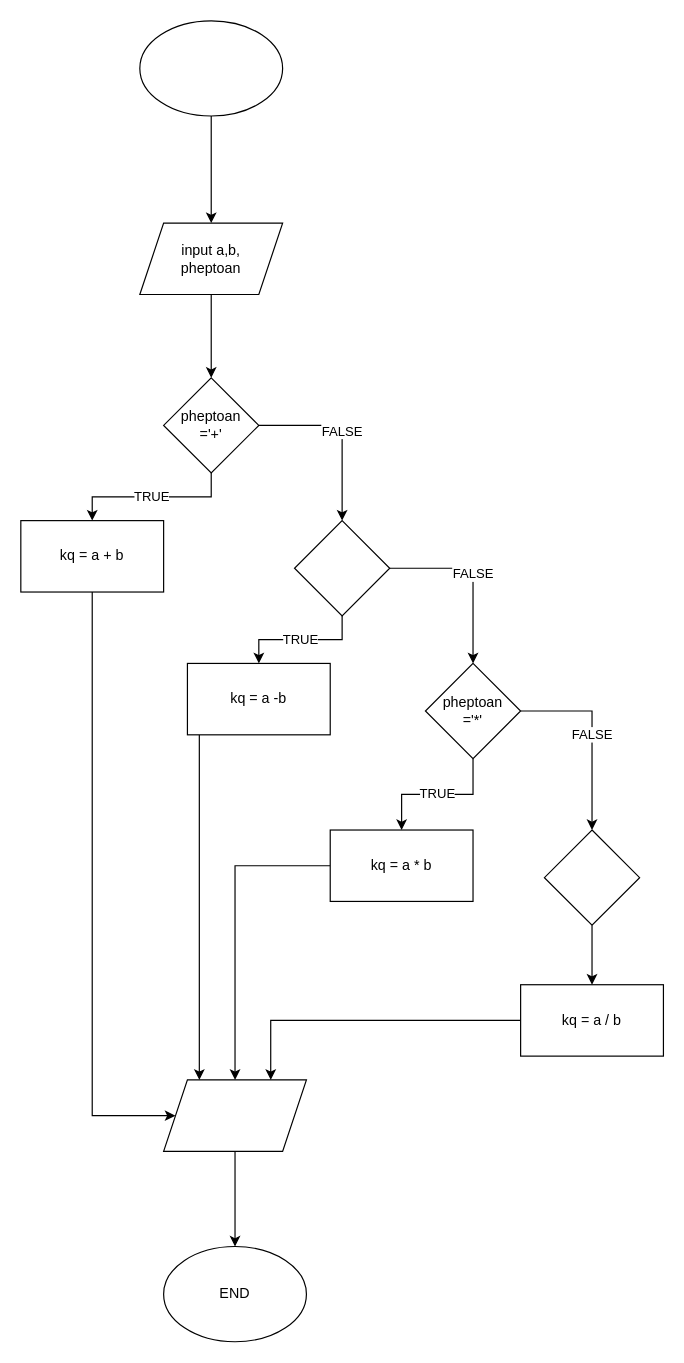
This 684x1363 diagram has some shape labels left out. The box of each missing label's shape, as (x1, y1, x2, y2) in pixels:
HIển thị kq: (162, 1079, 306, 1151)
pheptoan ='-': (293, 519, 390, 616)
pheptoan ='/': (543, 829, 640, 925)
start: (139, 20, 283, 116)
